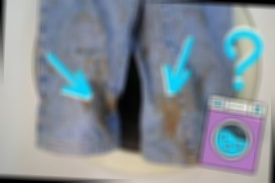earth: (160, 100, 182, 136), (97, 94, 115, 127)
